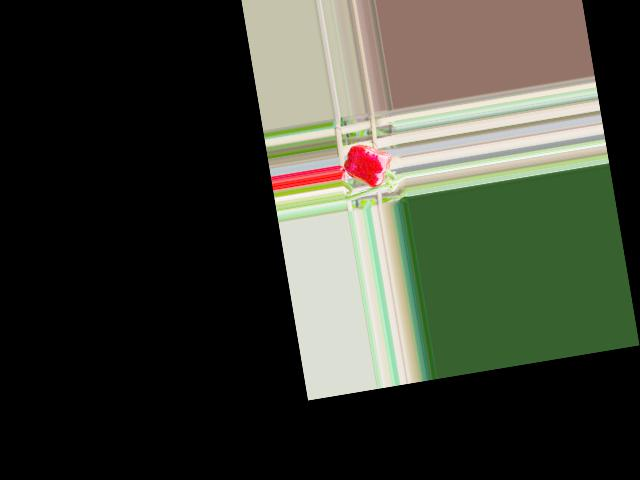bell_pepper: (341, 136, 396, 195)
